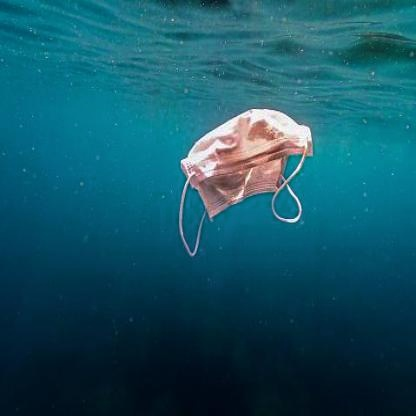Mask: (176, 103, 320, 262)
